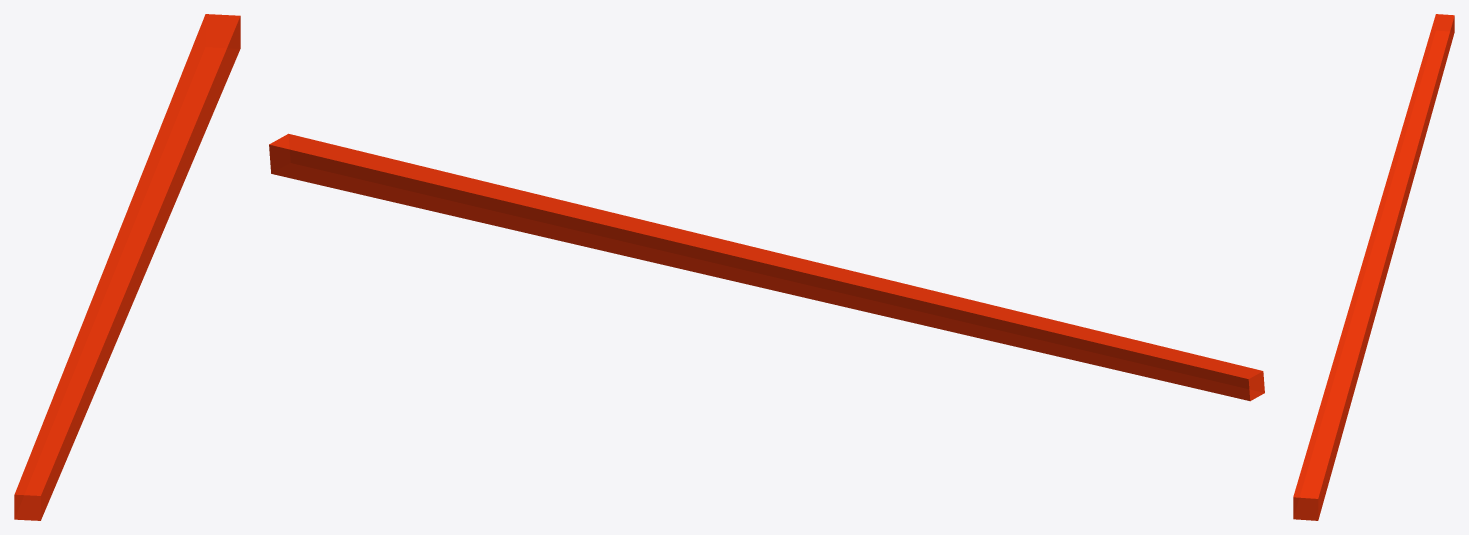
Rendered from Event_420107950_EErechit_76.fbx.
3 renders of one model, left to right at view 1: azimuth 90°, elevation 25°; view 2: azimuth 150°, elevation 25°; view 3: azimuth 270°, elevation 25°, orthographic. The views are drawn at different scales.
Visible parts, largest first — view 1: Model; view 2: Model; view 3: Model.
Part boxes in pixels (x1,y1,x2,y2): Model: [14, 14, 240, 520]; Model: [269, 133, 1264, 401]; Model: [1293, 14, 1454, 520].
Bounding box in the file's own units: 3.74 × 0.3914 × 0.6157.
